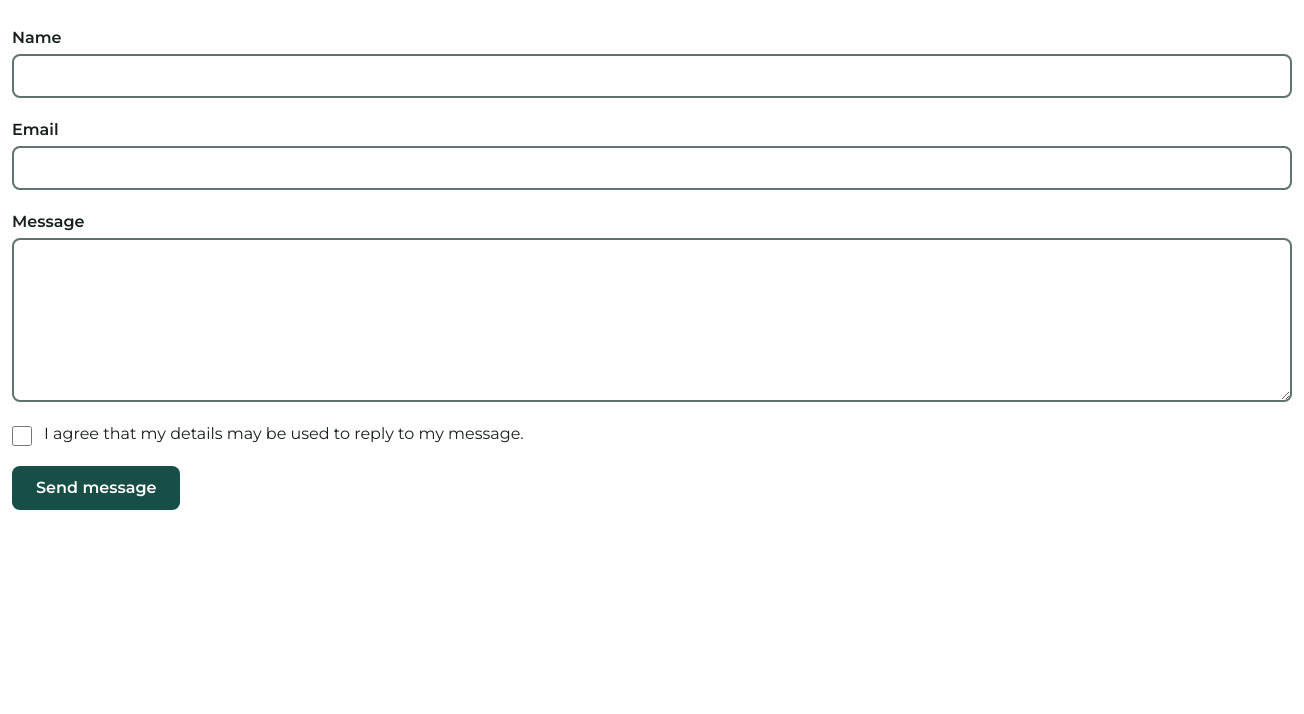
Test: ContactForm › shows field errors, links them and moves focus to the summary without sending
Step 1. Type "nope" into the field labelled "Email" → (652, 168), box [12,146,1292,190]
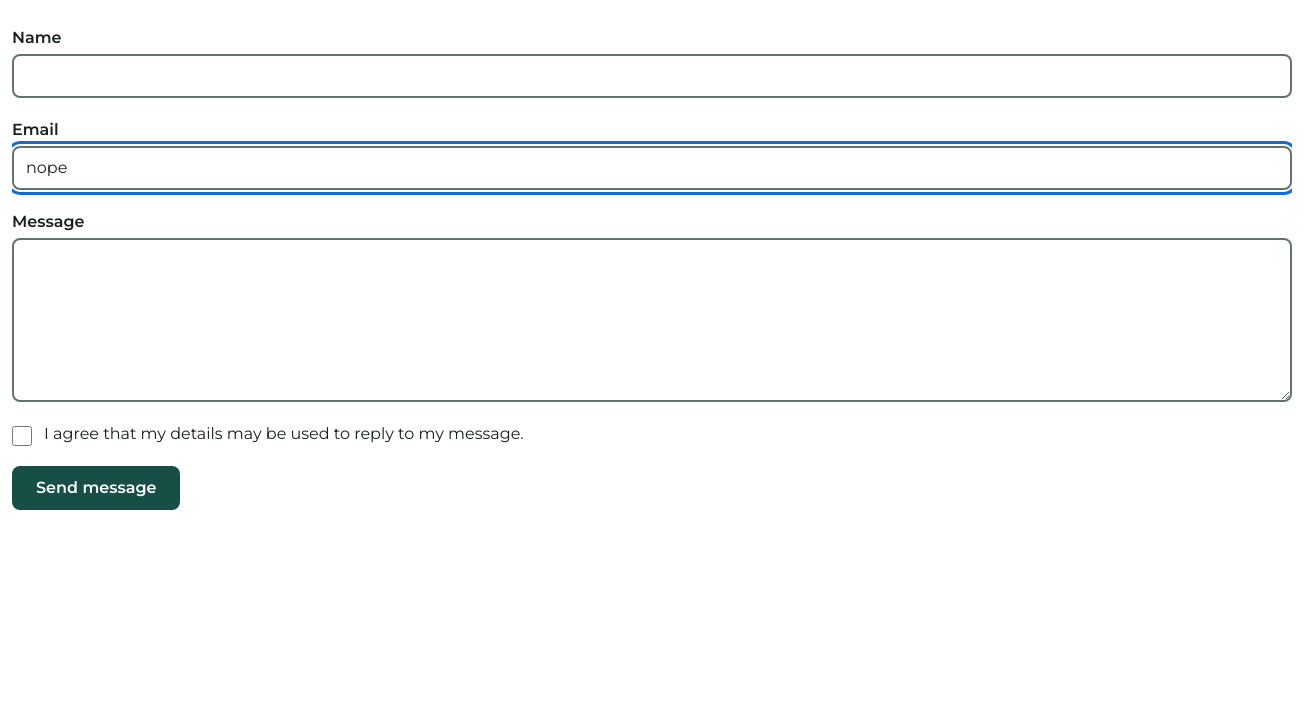
Step 2. Click the button "Send message" → (96, 488), box [12,466,180,510]
(page scrolled)
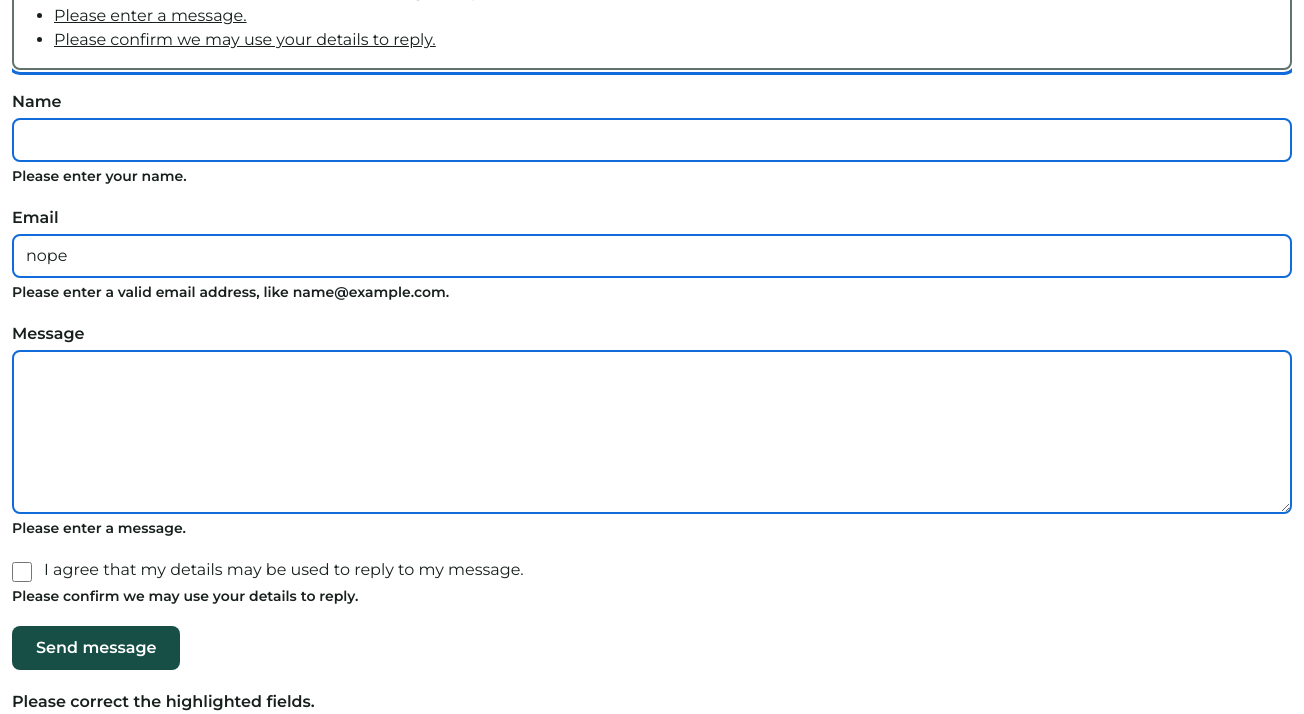
Now the message reads "Please correct the highlighted fields.", box [12,692,315,711]
